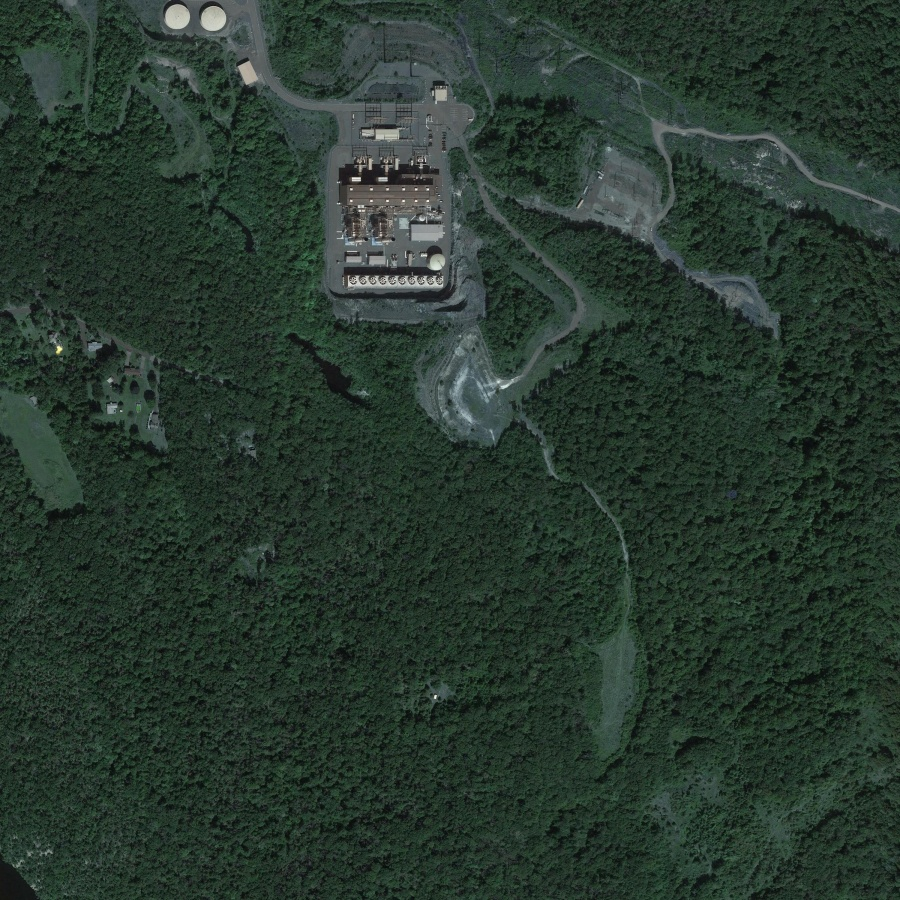PowerPlant: (330, 65, 476, 305)
